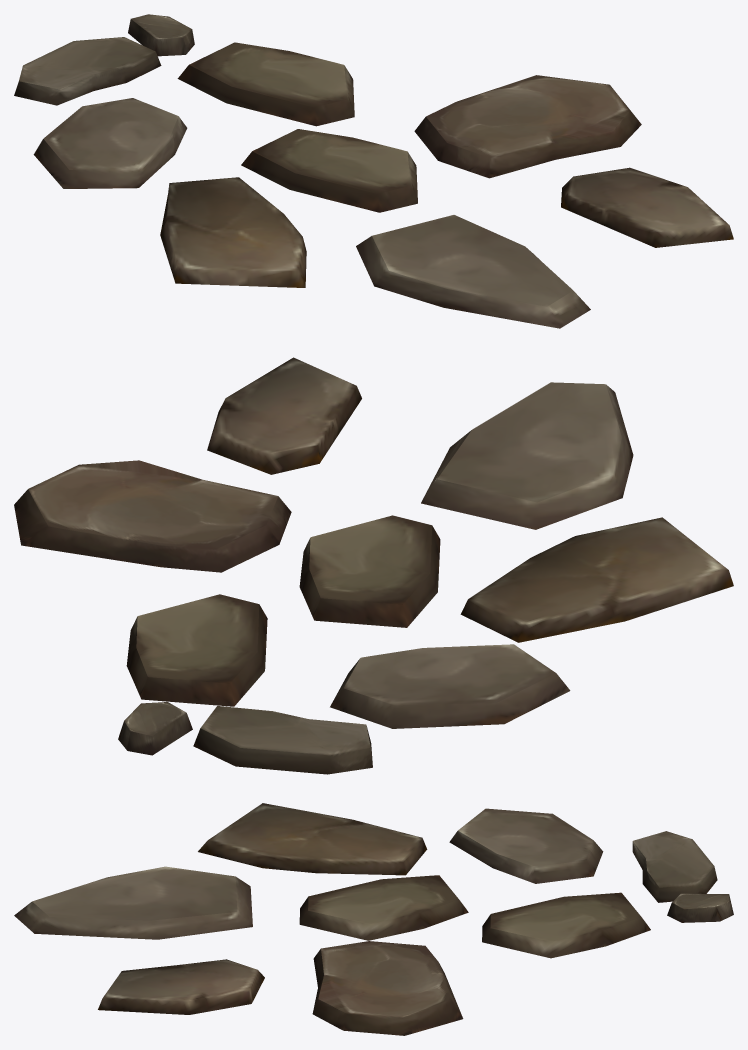
The model's file is XiaoShiTou01.FBX.
3 renders of one model, top to bottom at view 1: azimuth 30°, elevation 25°; view 2: azimuth 150°, elevation 25°; view 3: azimuth 270°, elevation 25°, orthographic. The views are drawn at different scales.
Visible parts, largest first — view 1: XiaoShiTou01; view 2: XiaoShiTou01; view 3: XiaoShiTou01.
Boxes of the visible parts, x1,y1,x2,y2 form: XiaoShiTou01: [14, 14, 733, 328]; XiaoShiTou01: [14, 357, 733, 774]; XiaoShiTou01: [14, 803, 733, 1035].
Size of the model in its own units: 148 by 4.03 by 201.
